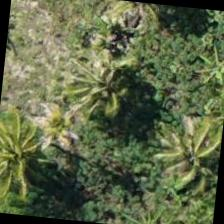Kelapa_Sawit: (0, 105, 55, 201)
